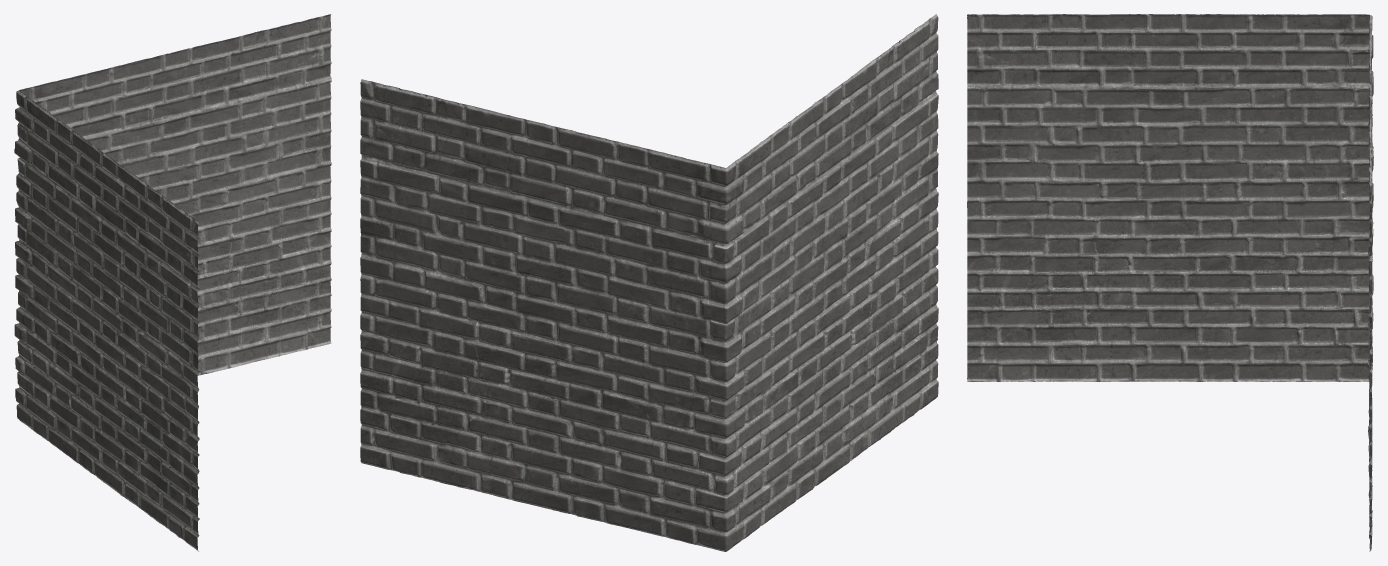
The model's file is SM_Sewer_Wall_Brick_01b.fbx.
The picture shows the model from 3 angles, left to right: view 1: azimuth 30°, elevation 25°; view 2: azimuth 150°, elevation 25°; view 3: azimuth 270°, elevation 25°; orthographic projection. The views are drawn at different scales.
Visible parts, largest first — view 1: SM_Sewer_Wall_Brick_01b_LOD0; view 2: SM_Sewer_Wall_Brick_01b_LOD0; view 3: SM_Sewer_Wall_Brick_01b_LOD0.
Part boxes in pixels (left/top/right/bottom): SM_Sewer_Wall_Brick_01b_LOD0: left=14, top=14, right=331, bottom=551; SM_Sewer_Wall_Brick_01b_LOD0: left=360, top=14, right=938, bottom=551; SM_Sewer_Wall_Brick_01b_LOD0: left=967, top=14, right=1373, bottom=551.
Size of the model in its own units: 201 by 201 by 200.
